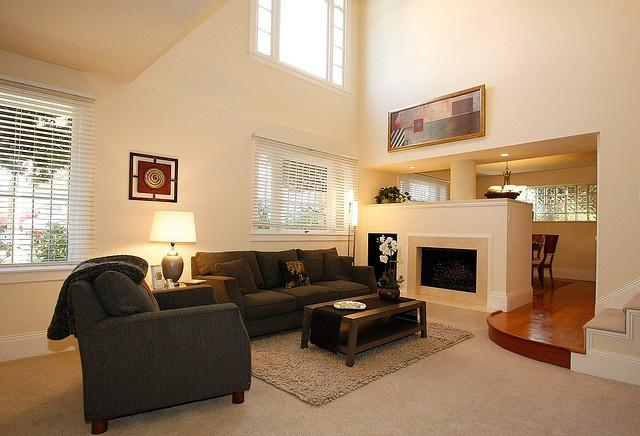Meja: (300, 291, 427, 366)
